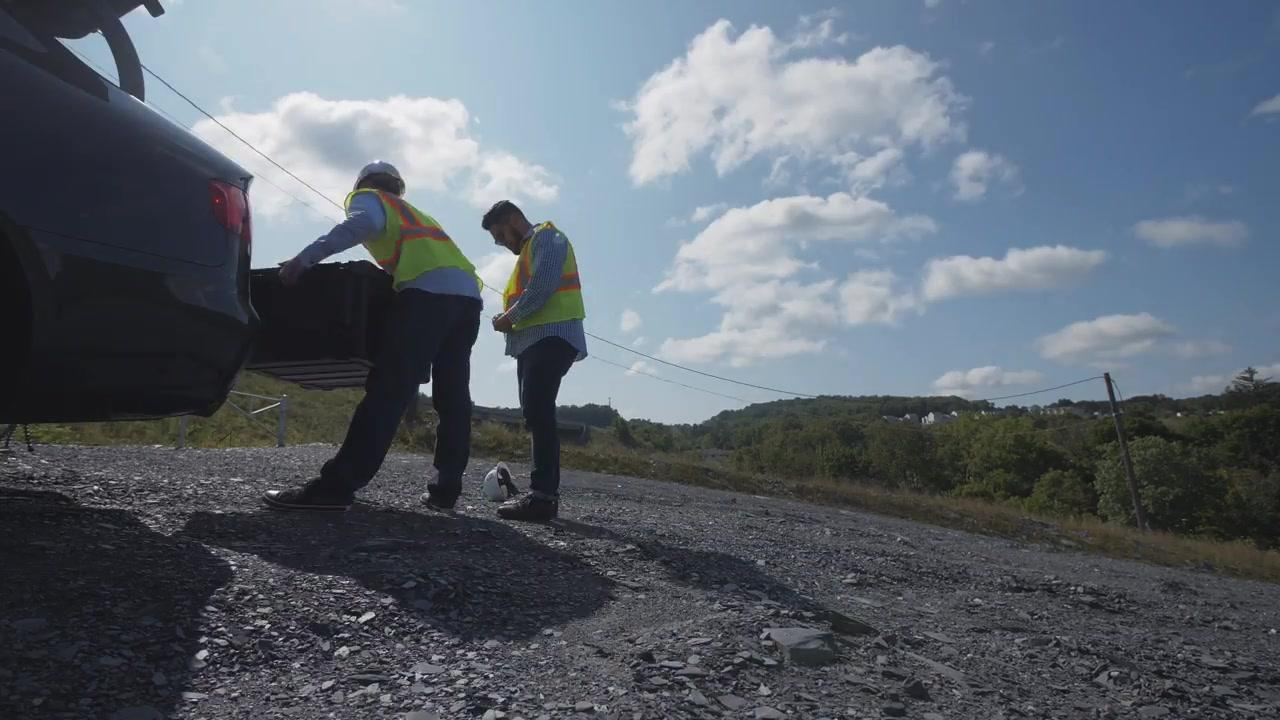vest: (341, 190, 487, 294), (495, 219, 584, 333)
